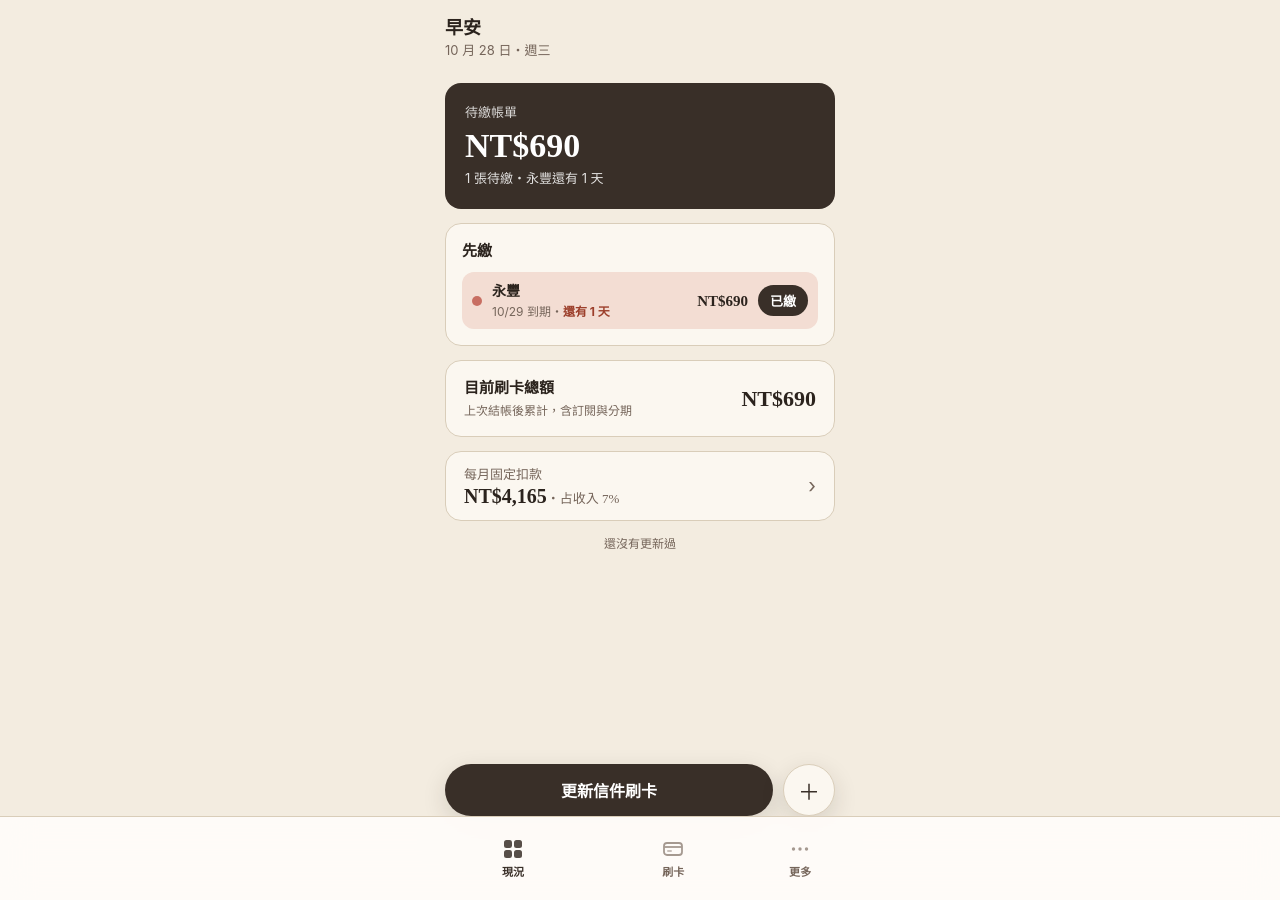
固定扣款 › 列出分期（剩幾期、哪個月結束）與訂閱，並說明什麼時候少一筆
Click the button "更多": (800, 858) [754,826,847,890]
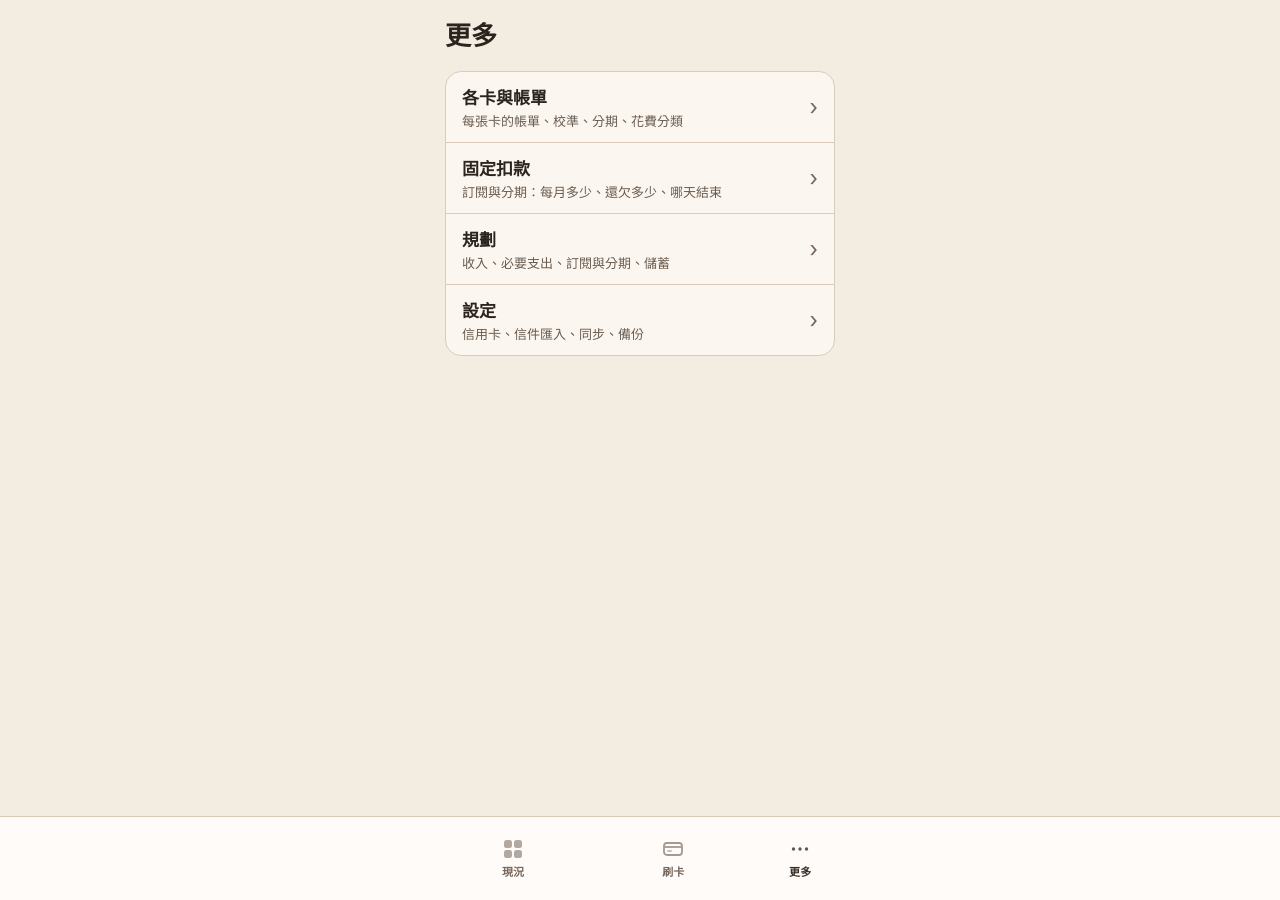
Click the button "固定扣款 訂閱與分期：每月多少、還欠多少、哪天結束 ›": (496, 169) [446,143,834,213]
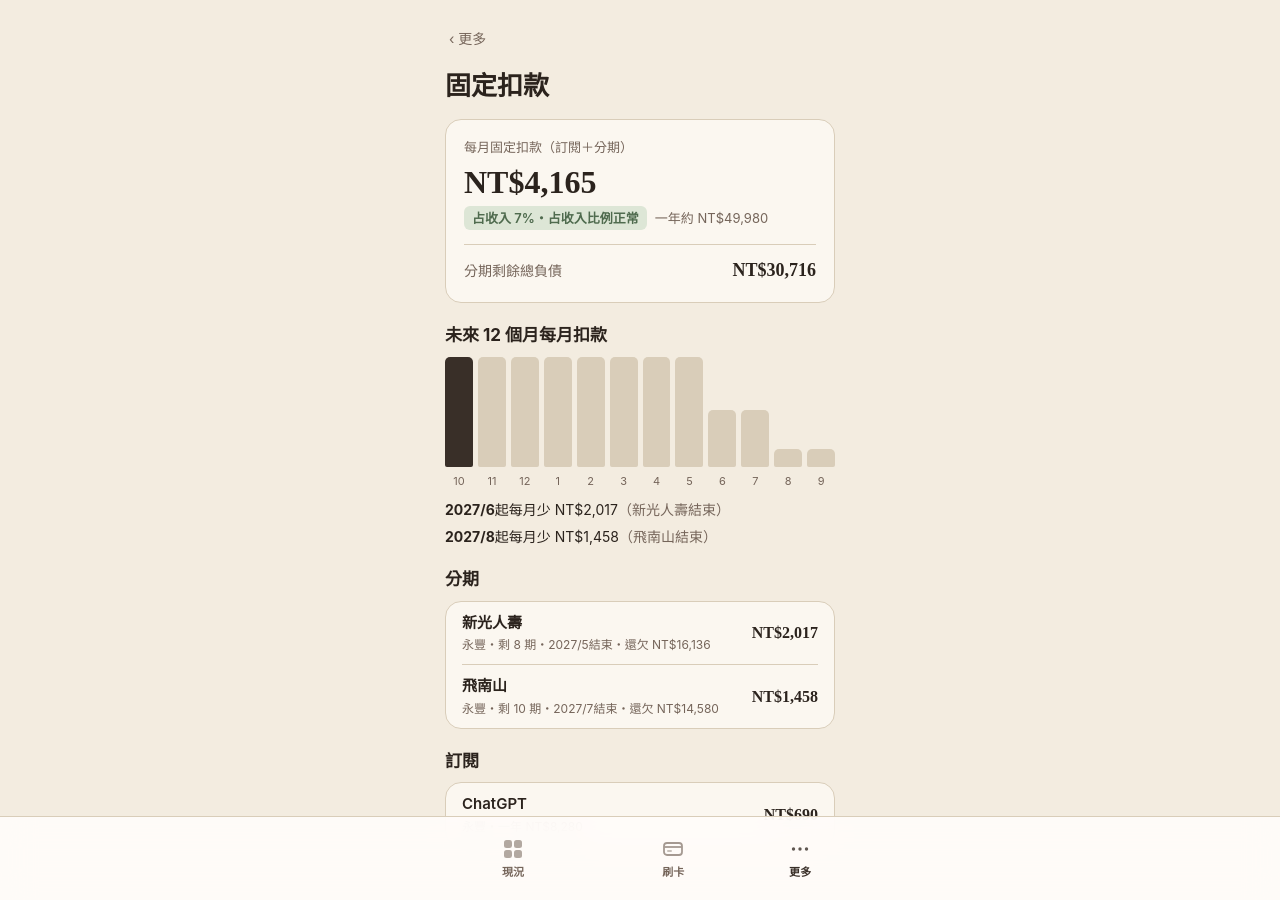
Now the text "永豐・剩 10 期・2027/7結束・還欠 NT$14,580" is shown, box [462,700,719,718]
Now the text "永豐・剩 8 期・2027/5結束・還欠 NT$16,136" is shown, box [462,636,711,654]
Now the text "ChatGPT" is shown, box [462,794,527,813]
